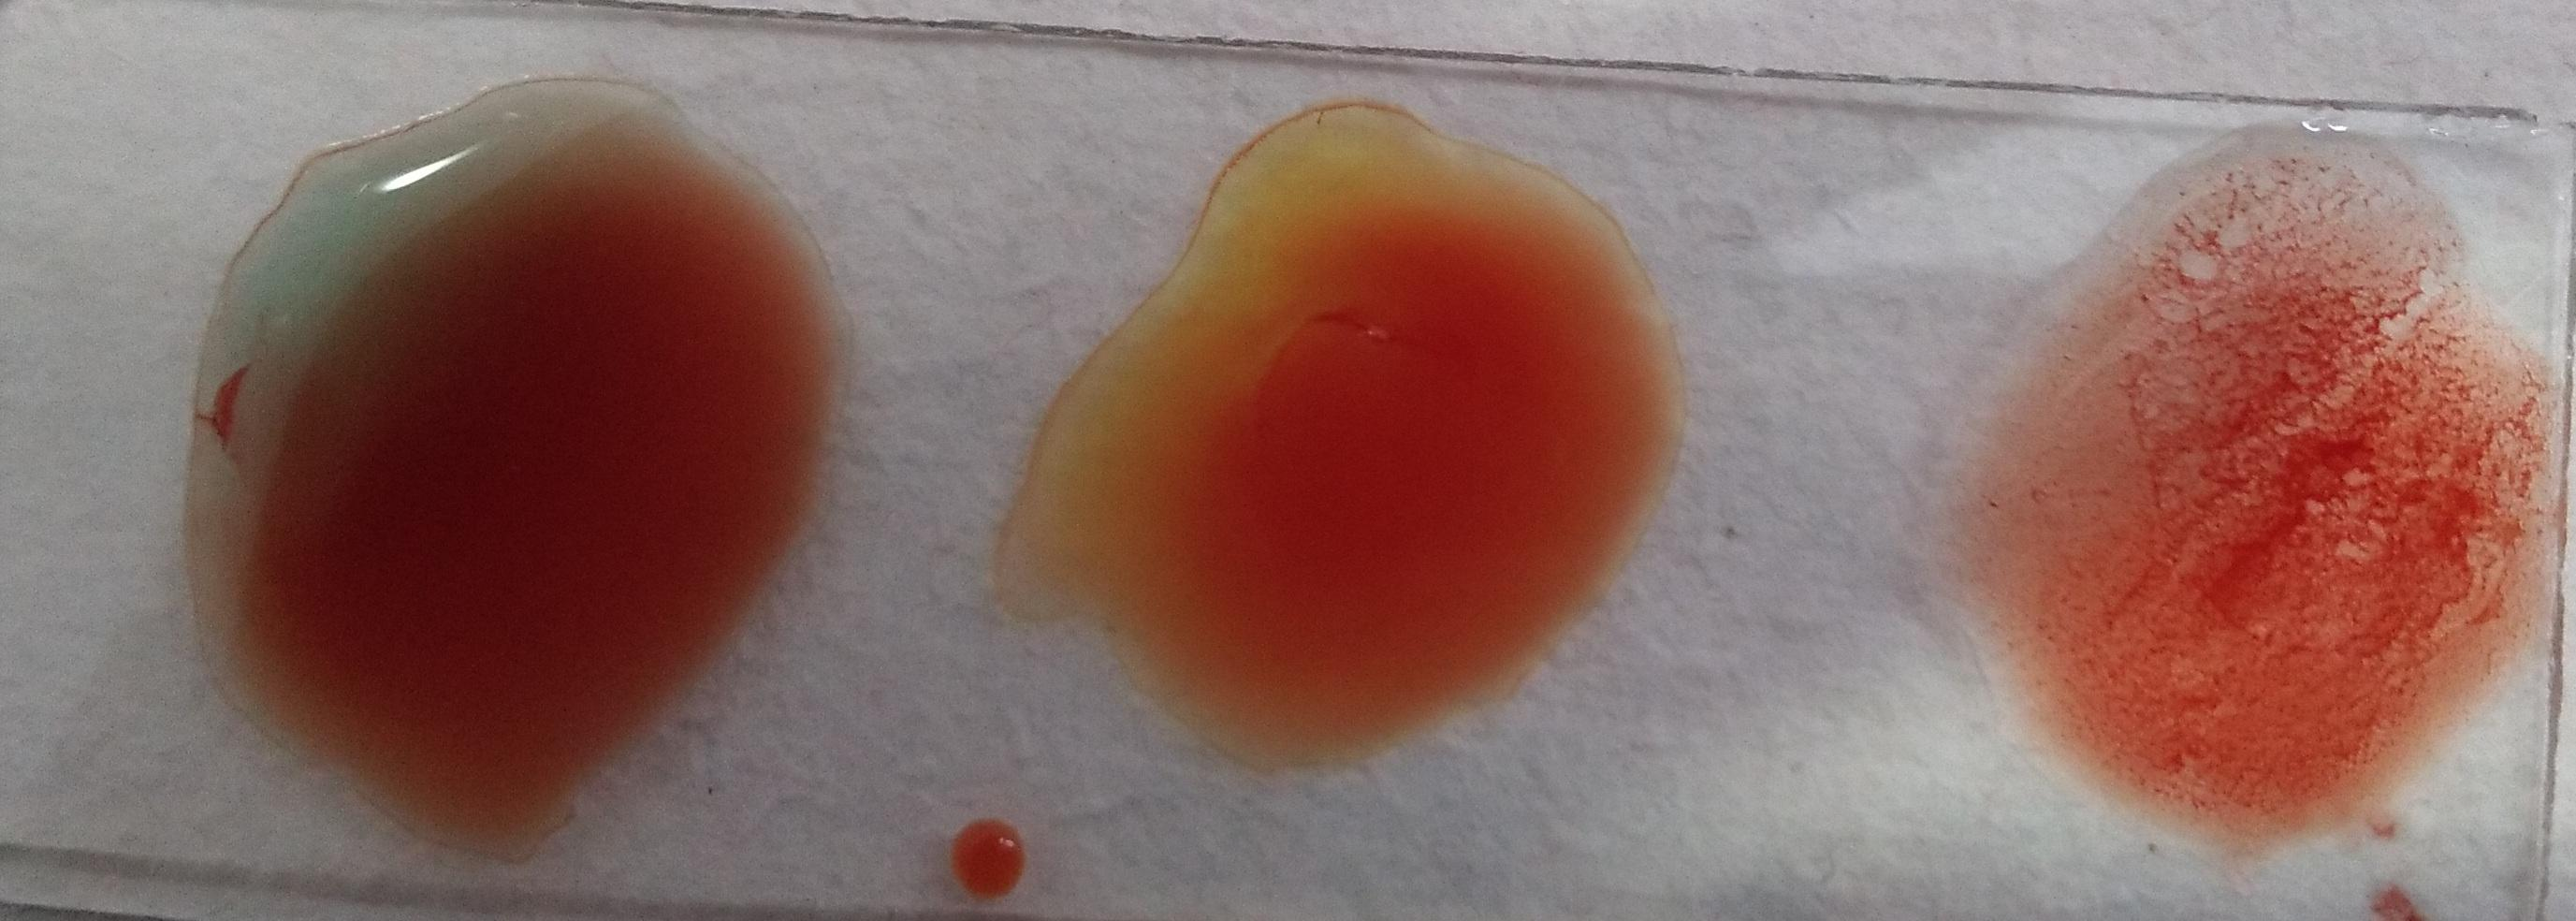D: (1965, 137, 2538, 840)
